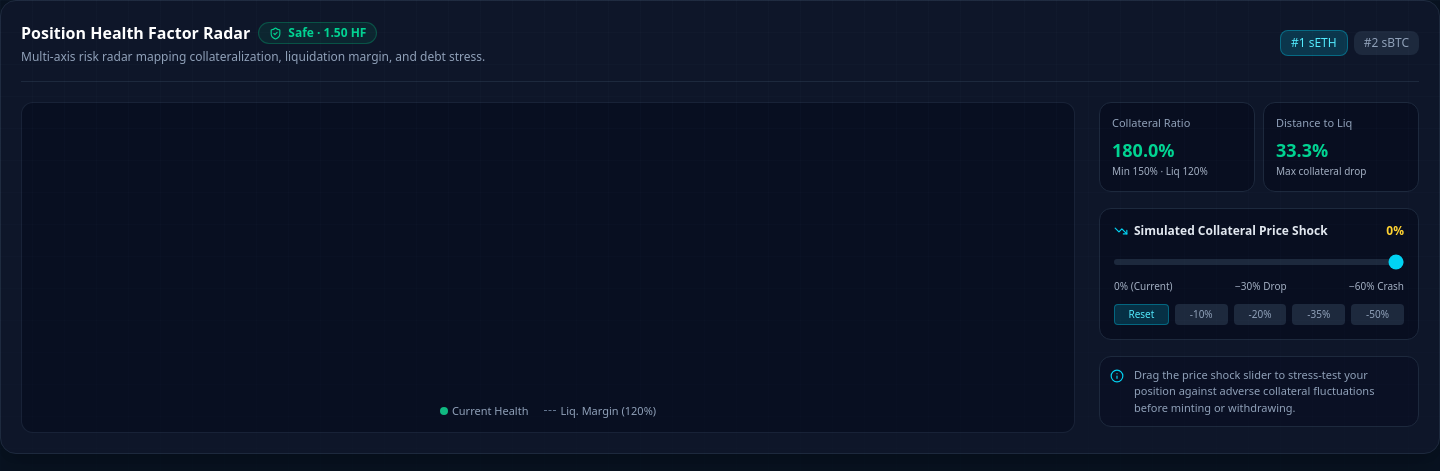
SyntheticPositionRadar & Health Factor Math › SyntheticPositionRadar UI Component & Price Shock Slider › switches between multiple positions
What coordinates should you click on to do the following:
click the button "#2 sBTC"
I would click on:
 (1386, 43)
Its box is [1354, 31, 1419, 55].
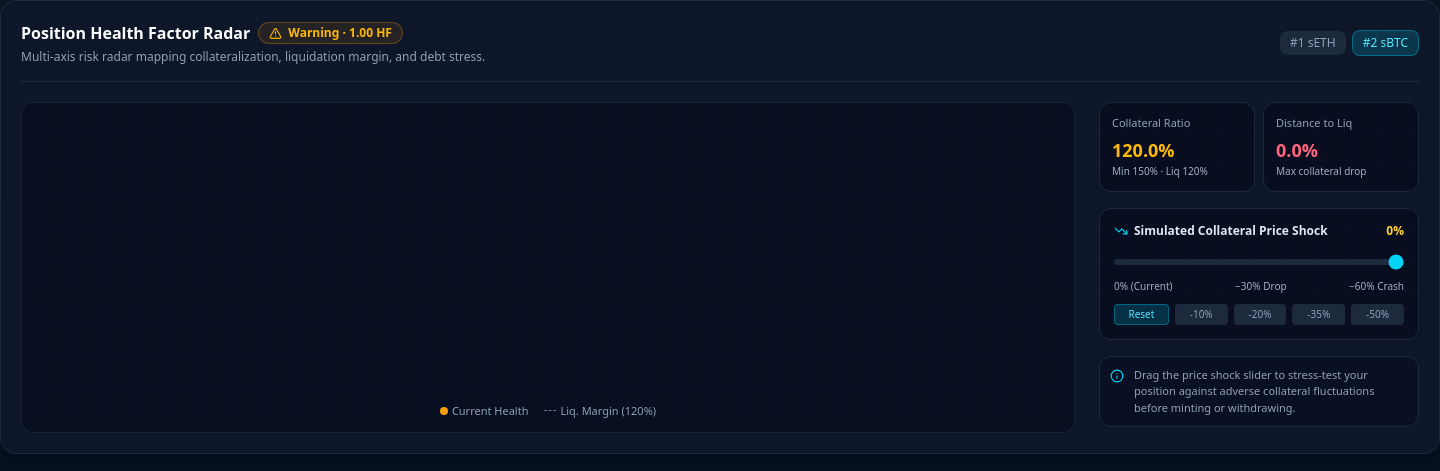
Check: the element with test id "health-factor-badge" shows "Warning", box [288, 24, 339, 41]
Check: the element with test id "health-factor-badge" shows "1.00 HF", box [258, 22, 403, 44]
